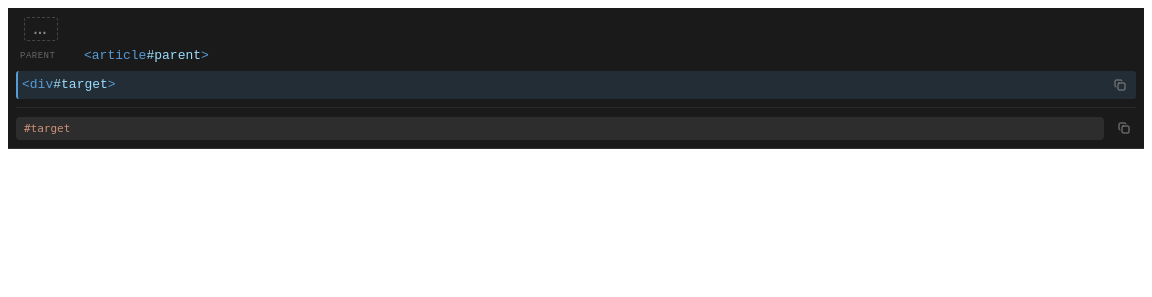
ElementHierarchyNav component › ancestor ellipsis › closes ancestor chooser on Escape without changing selection
Click the button named "omitted ancestor" at x=41, y=29, box 24,17 -> 58,41
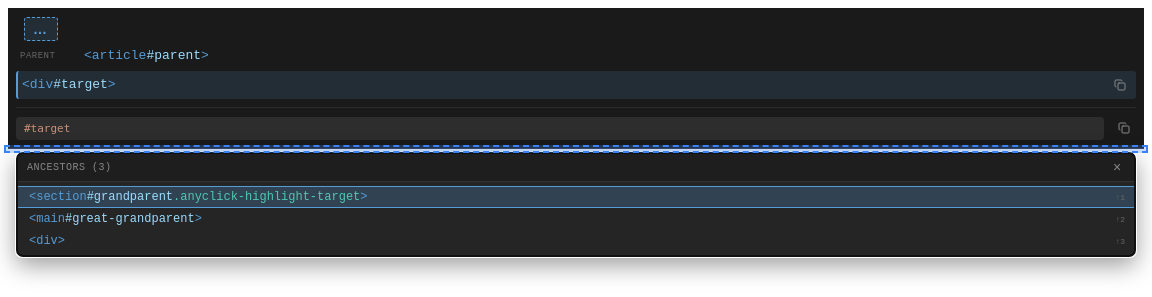
Expected: the list is shown
Press Escape in the list, box 16,152 -> 1136,257
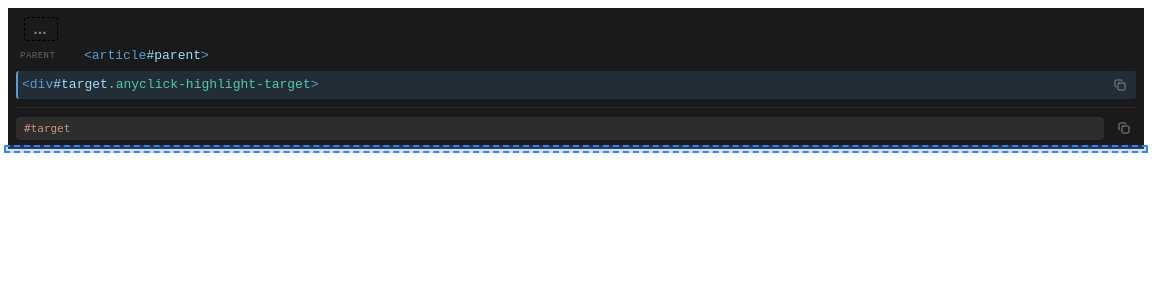
Expected: the list is gone
